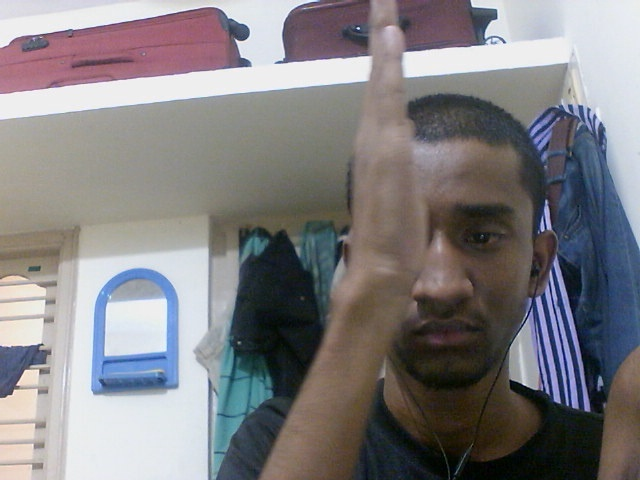hand: (345, 1, 431, 264)
